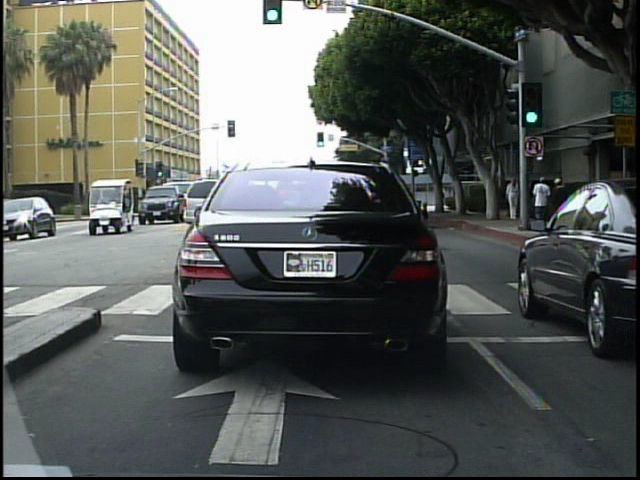person: (553, 171, 577, 234), (529, 174, 554, 234), (505, 176, 522, 224), (436, 183, 450, 214)
